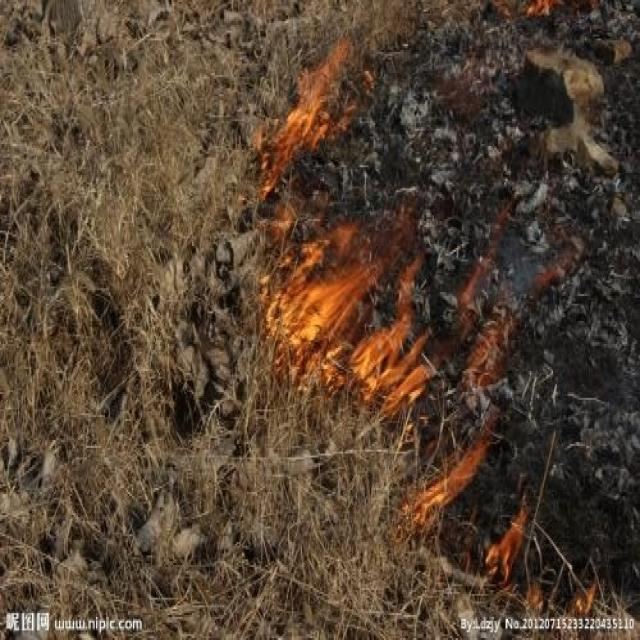Fire: (258, 210, 442, 413), (253, 36, 354, 198), (400, 441, 490, 528), (482, 506, 528, 580), (572, 582, 598, 615)
